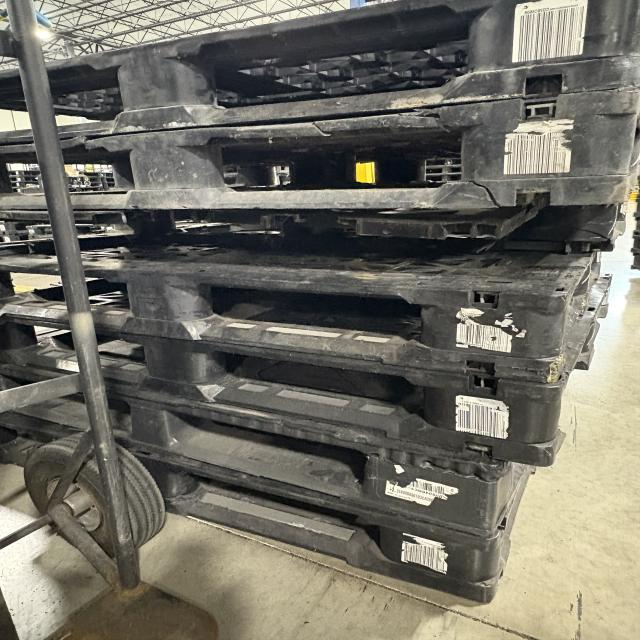igps: (0, 408, 502, 606), (0, 0, 640, 149), (0, 237, 604, 388), (0, 77, 640, 218), (0, 364, 509, 541), (0, 312, 571, 469)
